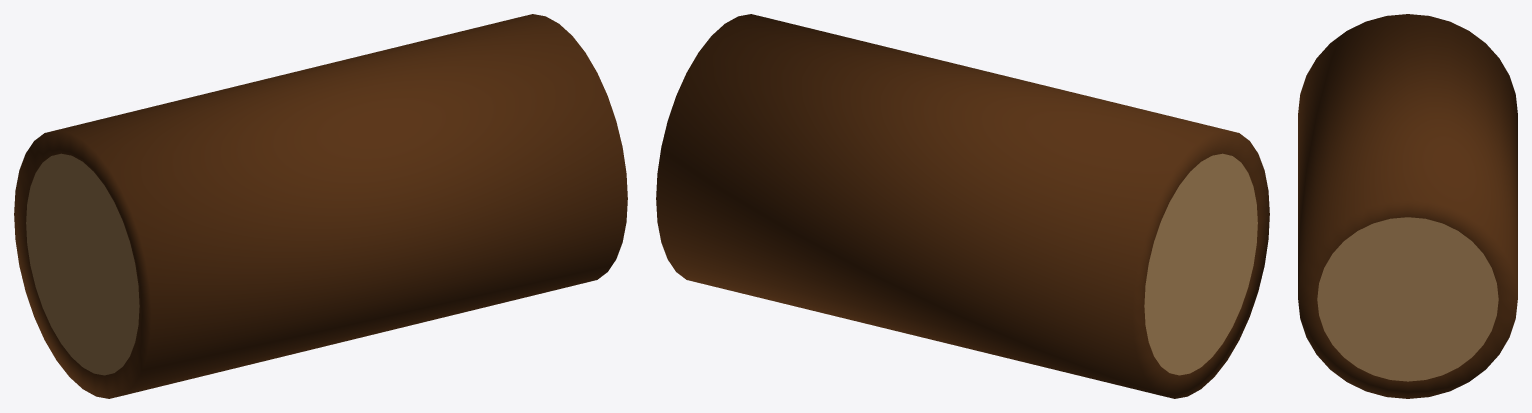
The model's file is log.glb.
3 renders of one model, left to right at view 1: azimuth 30°, elevation 25°; view 2: azimuth 150°, elevation 25°; view 3: azimuth 270°, elevation 25°, orthographic. The views are drawn at different scales.
Visible parts, largest first — view 1: Cylinder; view 2: Cylinder; view 3: Cylinder.
Boxes of the visible parts, box(x1,y1,x2,y2) form: Cylinder: box(14, 14, 627, 398); Cylinder: box(656, 14, 1269, 398); Cylinder: box(1298, 14, 1517, 398).
Size of the model in its own units: 2 by 1 by 1.
